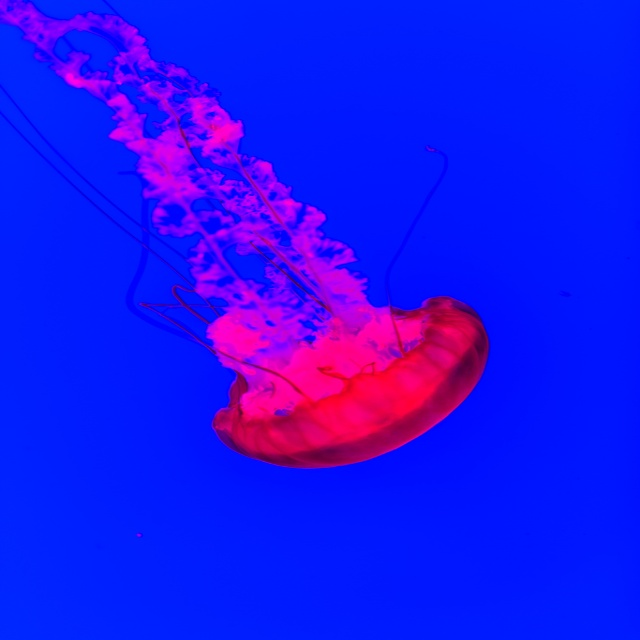Jellyfish: (6, 23, 491, 483)
